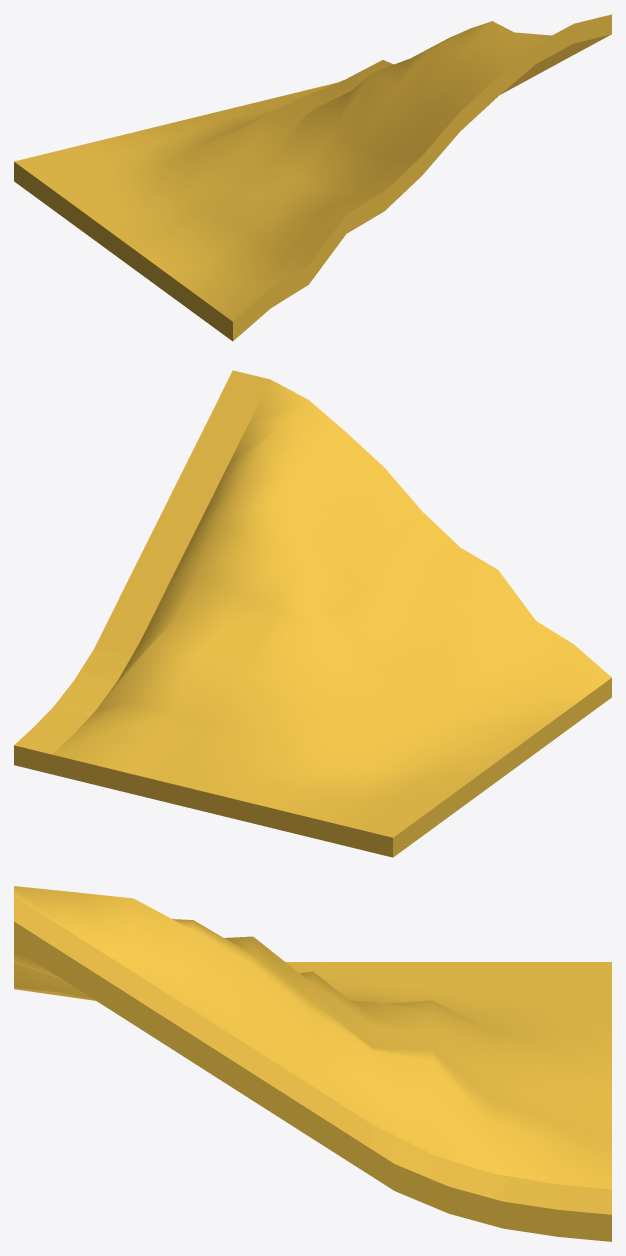
Rendered from Steil - Unten - Ecke x - a.fbx.
3 views of the same model, one above another, from view 1: azimuth 30°, elevation 25°; view 2: azimuth 150°, elevation 25°; view 3: azimuth 270°, elevation 25° (orthographic). The views are drawn at different scales.
Parts seen in each view (by area): view 1: Steil - Unten - Ecke x - a; view 2: Steil - Unten - Ecke x - a; view 3: Steil - Unten - Ecke x - a.
Part boxes in pixels (x1,y1,x2,y2): Steil - Unten - Ecke x - a: (14,14,611,341); Steil - Unten - Ecke x - a: (14,370,611,857); Steil - Unten - Ecke x - a: (14,886,611,1241).
Size of the model in its own units: 394 by 233 by 394.
